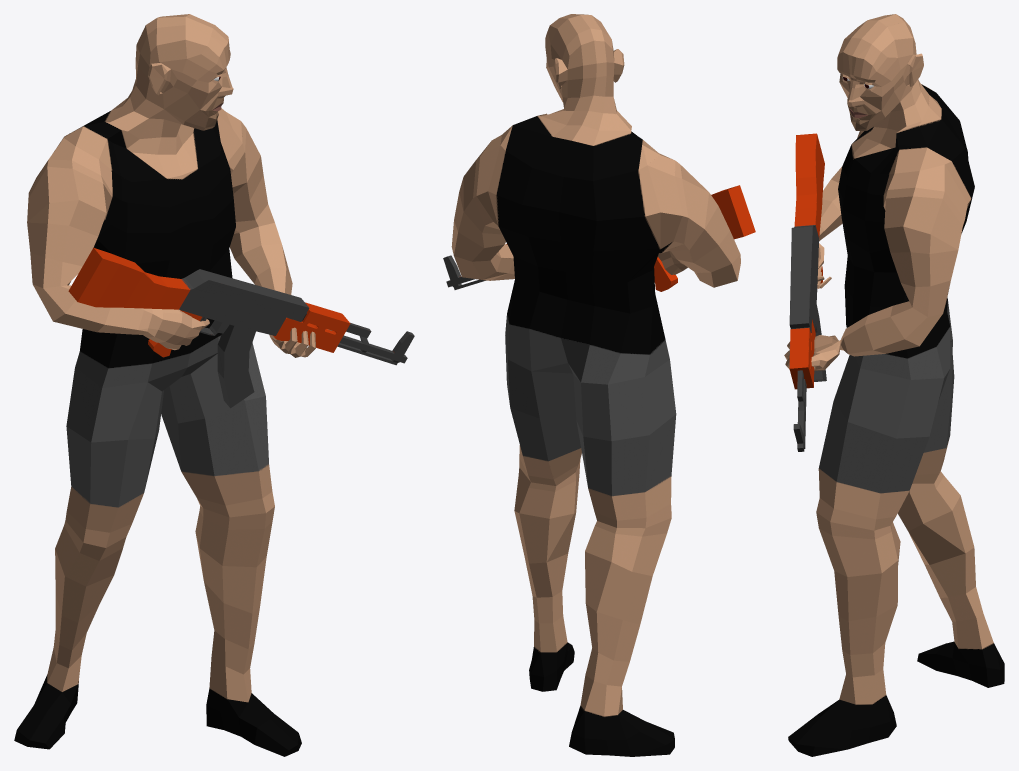
File: PlayerIdle(132).obj
3 renders of one model, left to right at view 1: azimuth 30°, elevation 25°; view 2: azimuth 150°, elevation 25°; view 3: azimuth 270°, elevation 25°, orthographic. The views are drawn at different scales.
Visible parts, largest first — view 1: Plane002, Object001; view 2: Plane002, Object001; view 3: Plane002, Object001.
Part boxes in pixels (bbox=[...]): Plane002: bbox=[14, 14, 331, 756]; Object001: bbox=[68, 247, 414, 408]; Plane002: bbox=[451, 14, 740, 756]; Object001: bbox=[443, 185, 755, 291]; Plane002: bbox=[784, 14, 1004, 756]; Object001: bbox=[789, 133, 826, 451].
Bounding box in the file's own units: 891 × 1794 × 514.
